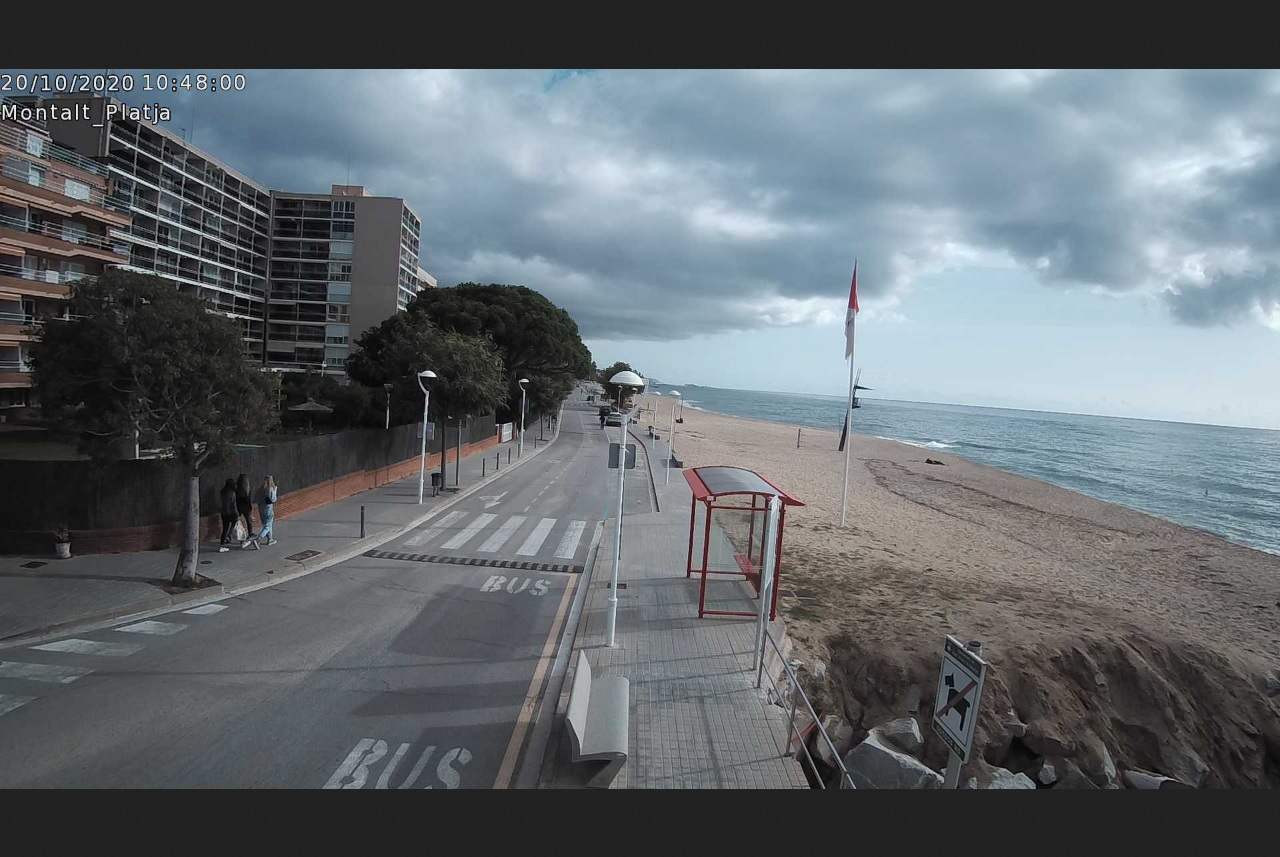no: (836, 263, 862, 358)
